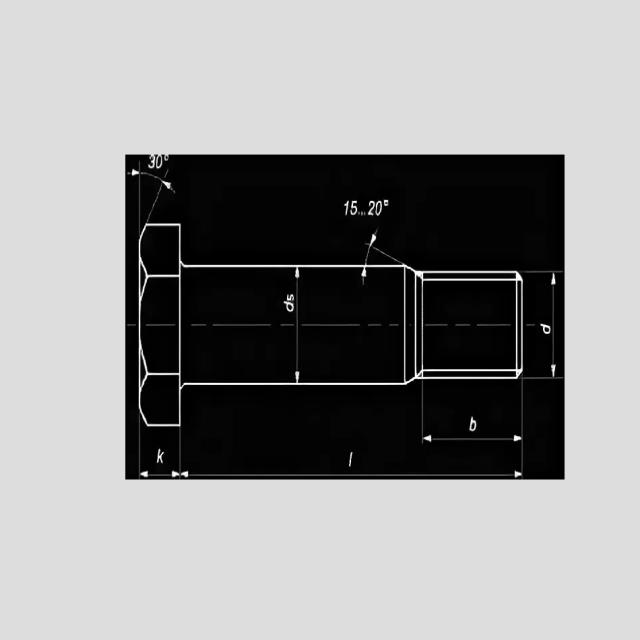marking_line: (182, 471, 523, 478), (425, 432, 523, 442), (549, 275, 558, 377), (295, 269, 301, 384), (140, 467, 179, 480)
numeric: (342, 198, 359, 217), (368, 195, 381, 218), (148, 154, 165, 169)
special_symbol: (129, 169, 178, 223), (357, 232, 406, 264)
